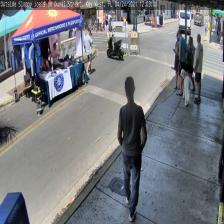person: (116, 76, 146, 220)
